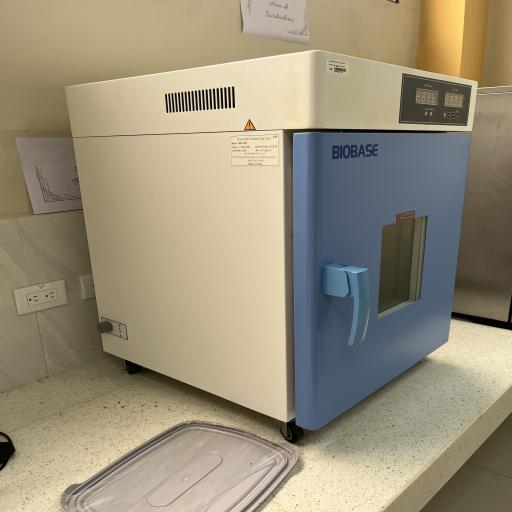Horno_Secado_Biobase: (52, 42, 488, 448)
